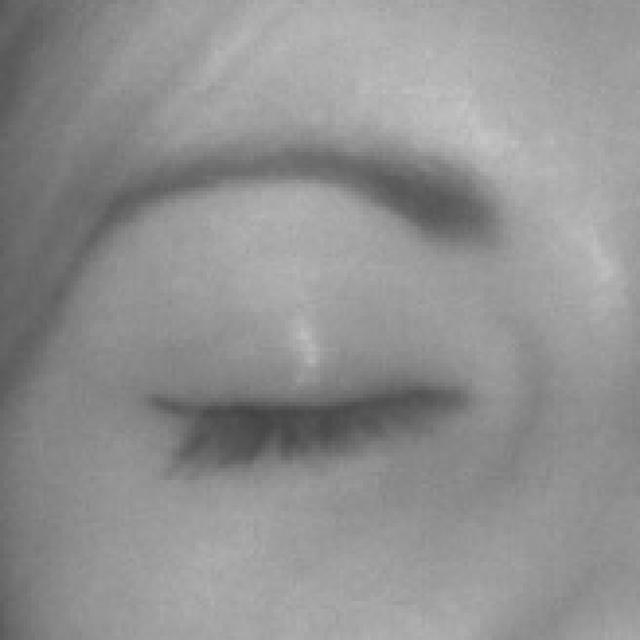Eyeclosed: (133, 262, 471, 563)
